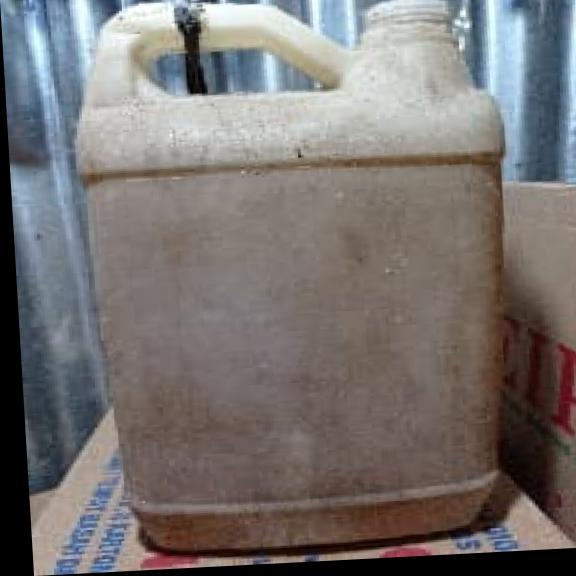Plastik: (80, 0, 502, 550)
